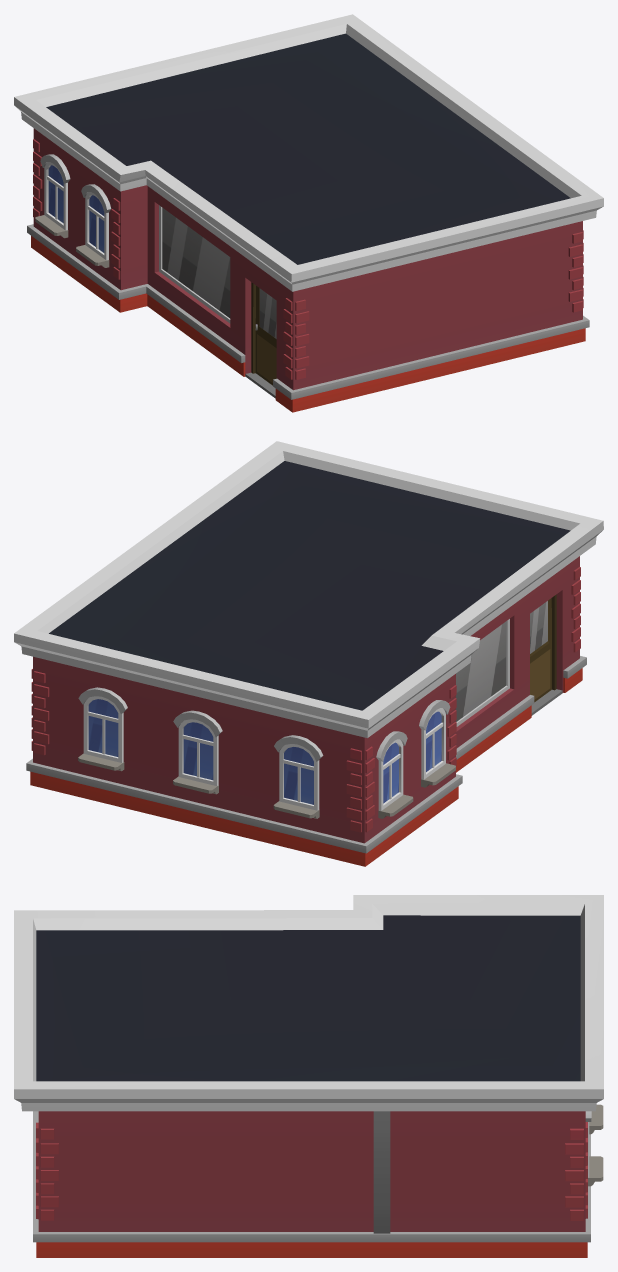
Rendered from Building_1_1_H.fbx.
3 renders of one model, top to bottom at view 1: azimuth 30°, elevation 25°; view 2: azimuth 150°, elevation 25°; view 3: azimuth 270°, elevation 25°, orthographic. The views are drawn at different scales.
Parts seen in each view (by area): view 1: Building_1_1_H; view 2: Building_1_1_H; view 3: Building_1_1_H.
Boxes of the visible parts, bbox=[...] form: Building_1_1_H: bbox=[14, 14, 603, 412]; Building_1_1_H: bbox=[14, 441, 603, 866]; Building_1_1_H: bbox=[14, 895, 603, 1257].
Bounding box in the file's own units: 822 × 341 × 1051.
